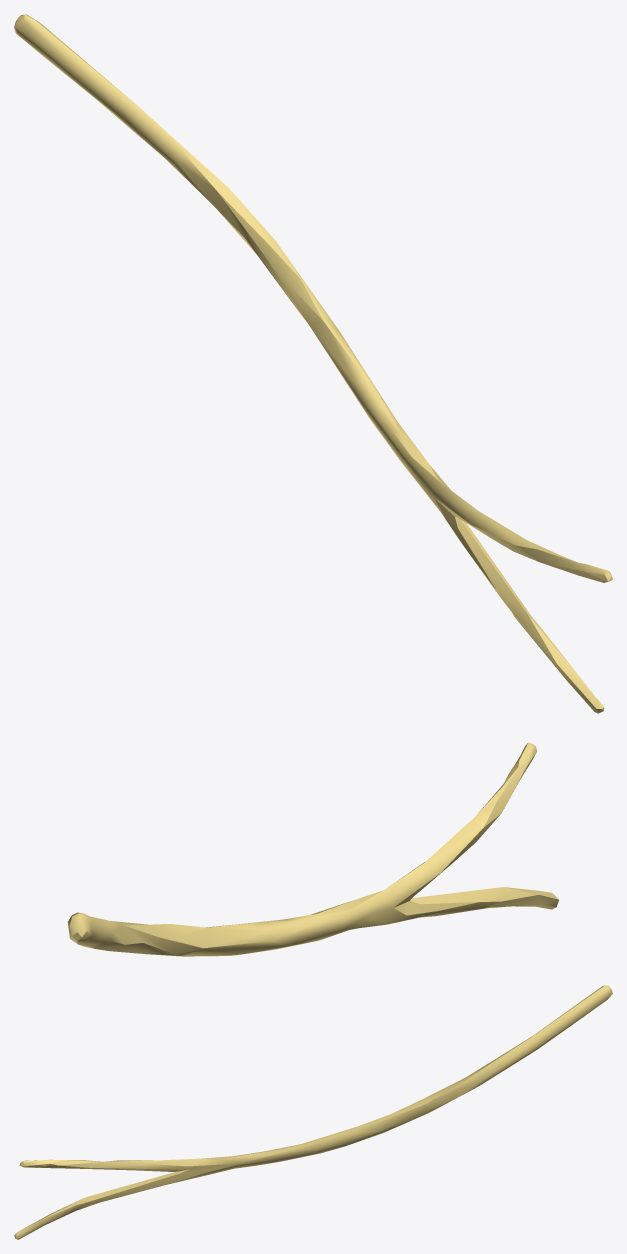
File: fma52601_fj4035.glb
3 views of the same model, one above another, from view 1: azimuth 30°, elevation 25°; view 2: azimuth 150°, elevation 25°; view 3: azimuth 270°, elevation 25° (orthographic). The views are drawn at different scales.
Visible parts, largest first — view 1: FMA52601_FJ4035; view 2: FMA52601_FJ4035; view 3: FMA52601_FJ4035.
Part boxes in pixels (x1,y1,x2,y2): FMA52601_FJ4035: (14, 14, 612, 713); FMA52601_FJ4035: (67, 742, 558, 956); FMA52601_FJ4035: (14, 985, 612, 1239).
Size of the model in its own units: 0.00255 by 0.00757 by 0.0181.
